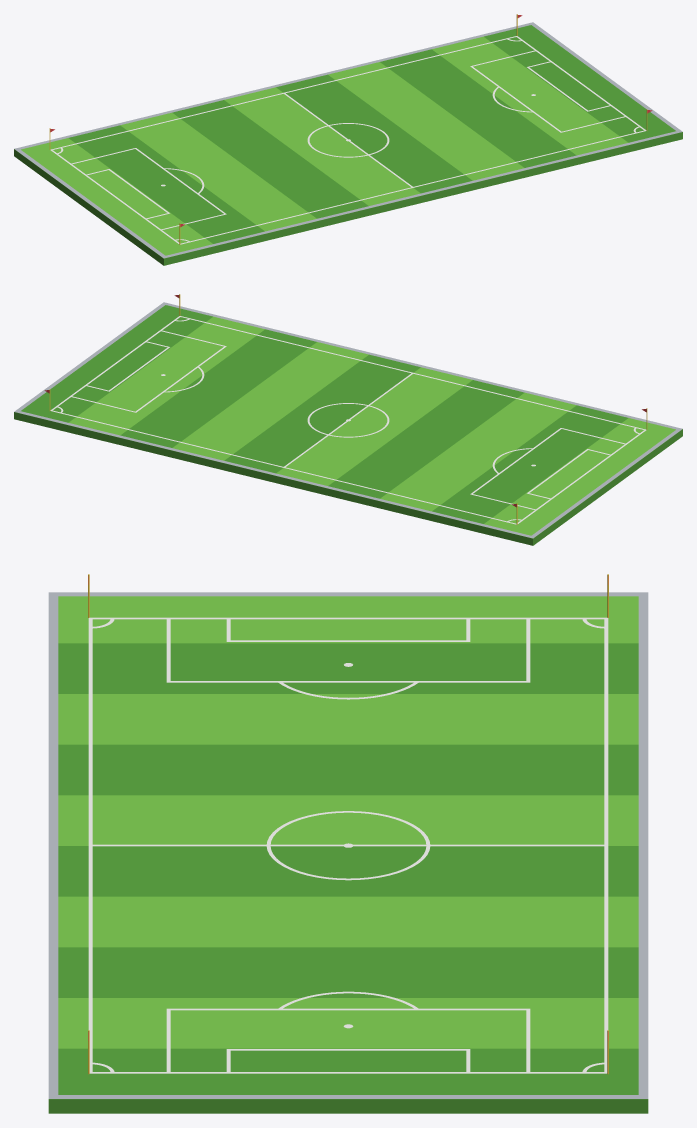
The model's file is campo_futebol.glb.
3 views of the same model, one above another, from view 1: azimuth 30°, elevation 25°; view 2: azimuth 150°, elevation 25°; view 3: azimuth 270°, elevation 25° (orthographic). The views are drawn at different scales.
Parts seen in each view (by area): view 1: campo_futebol; view 2: campo_futebol; view 3: campo_futebol.
Boxes of the visible parts, x1=… form: campo_futebol: x1=14, y1=14, x2=682, y2=265; campo_futebol: x1=14, y1=294, x2=682, y2=545; campo_futebol: x1=48, y1=574, x2=648, y2=1113.
Size of the model in its own units: 30 by 1.6 by 15.
1 material, 1 textured.
